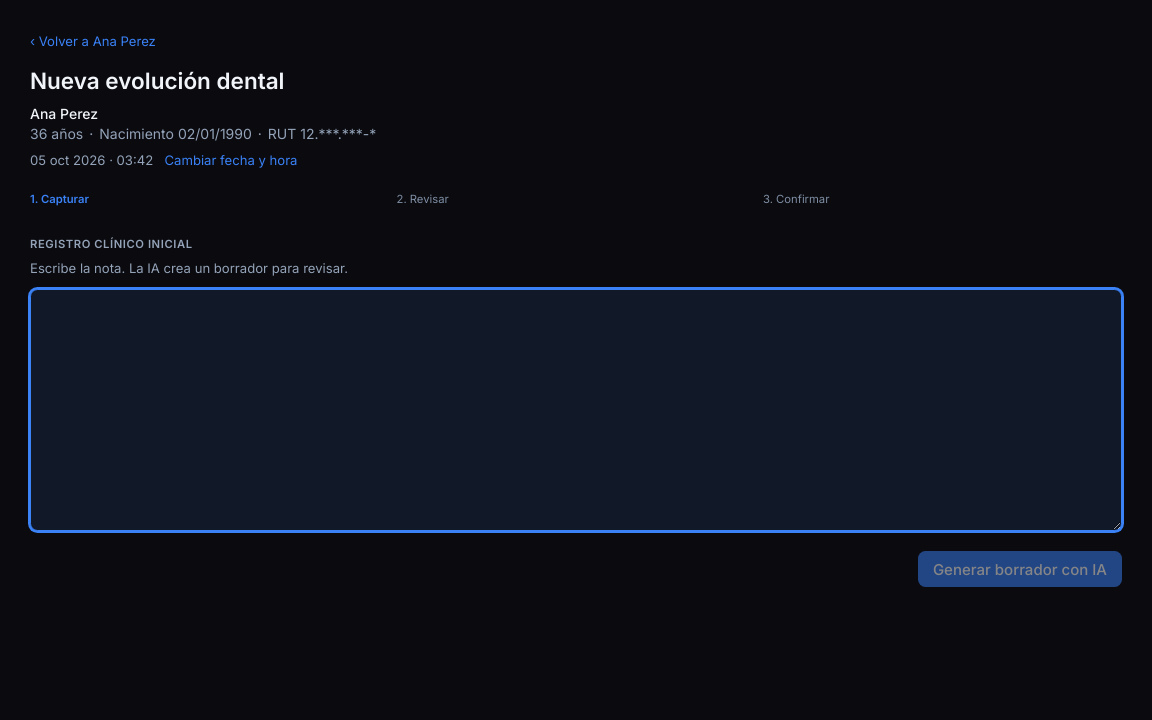
NewEvolution generation states › renders the success state and enables saving
The image size is (1152, 720).
expect the heading "Nueva evolución dental" is shown: met, box [30,67,284,94]
Type "Paciente refiere sensibilidad al frío." into the text box named "Nota clínica" at (576, 410), box [30,289,1122,531]
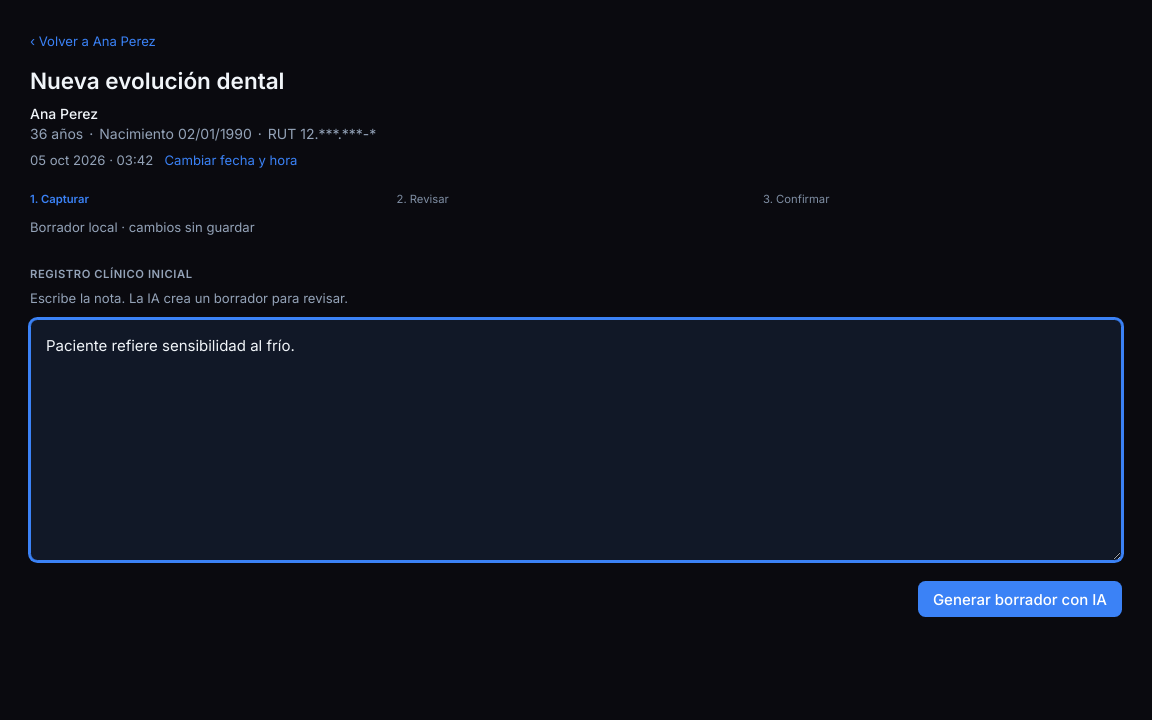
Click the button "Generar borrador con IA" at (1020, 599), box [918,581,1122,617]
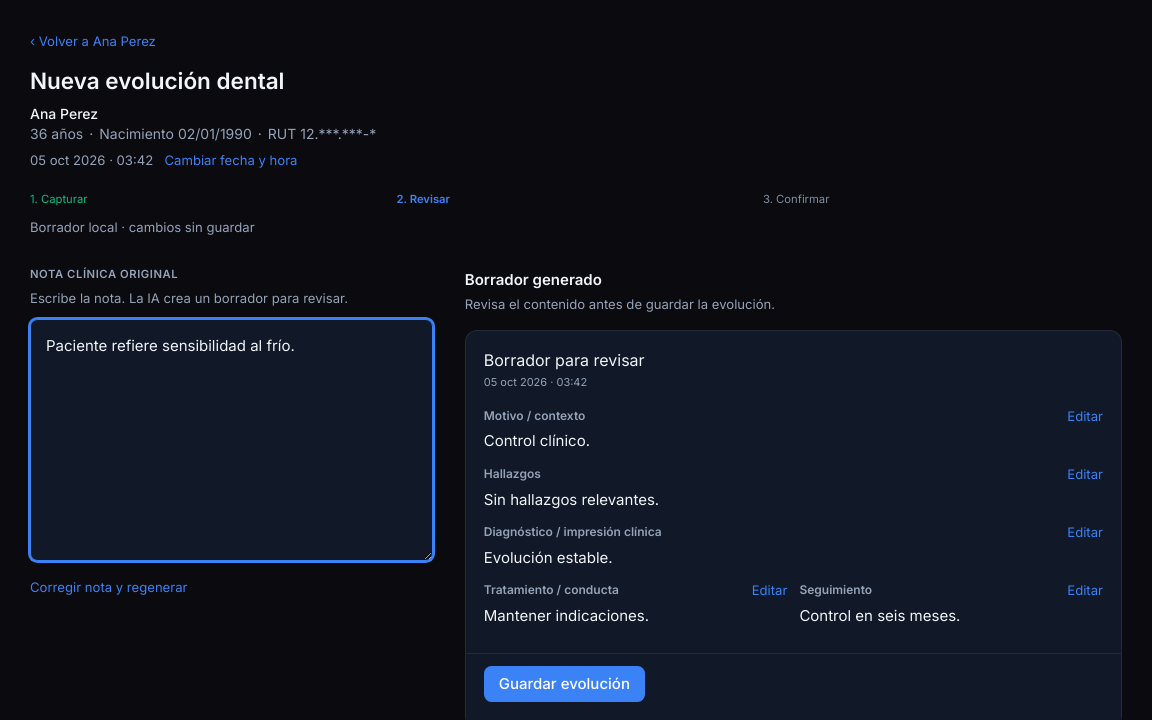
expect the button "Guardar evolución" is enabled: met, box [484,666,645,702]
expect the heading "Borrador generado" is shown: met, box [465,270,602,289]
